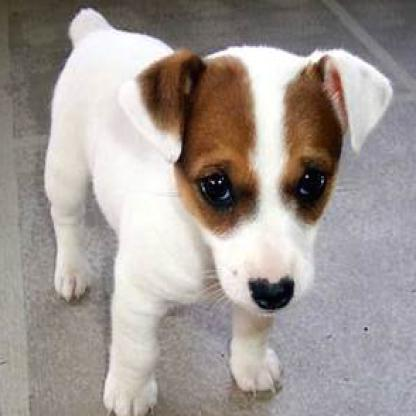dog: (42, 7, 399, 414)
